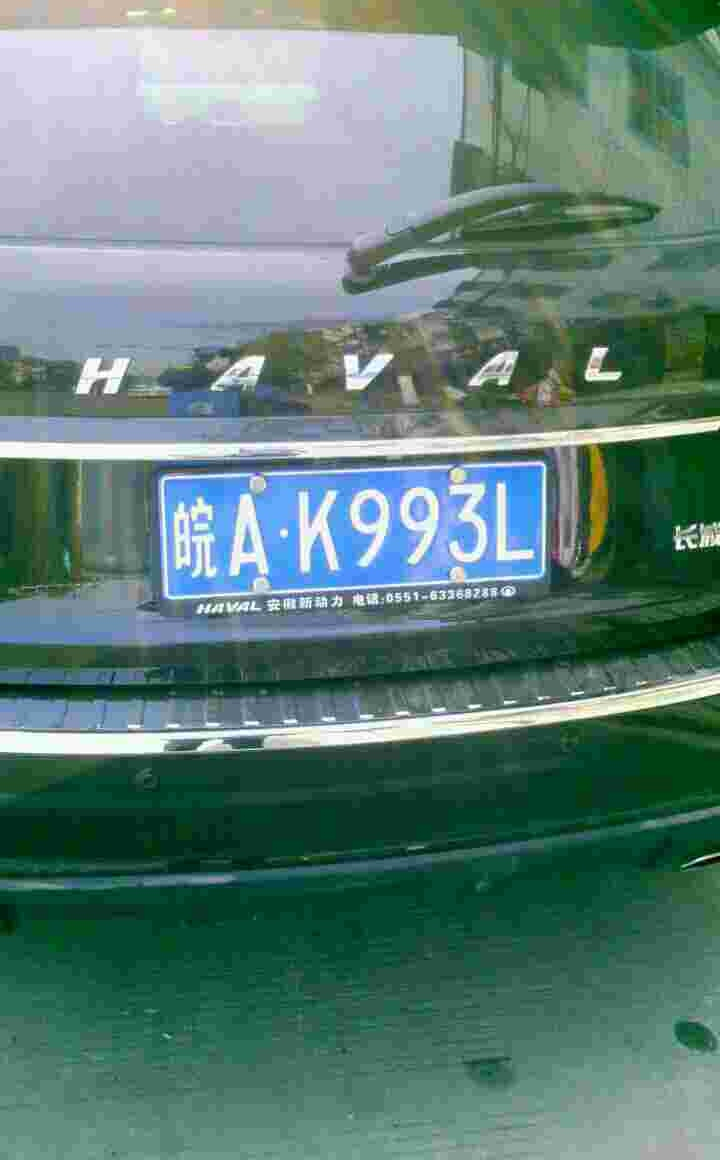license_plate: (164, 460, 532, 593)
